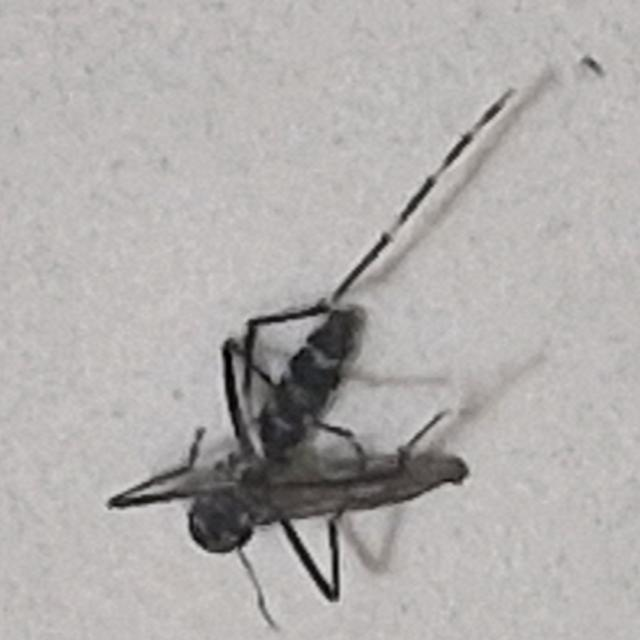albopictus: (98, 63, 542, 609)
